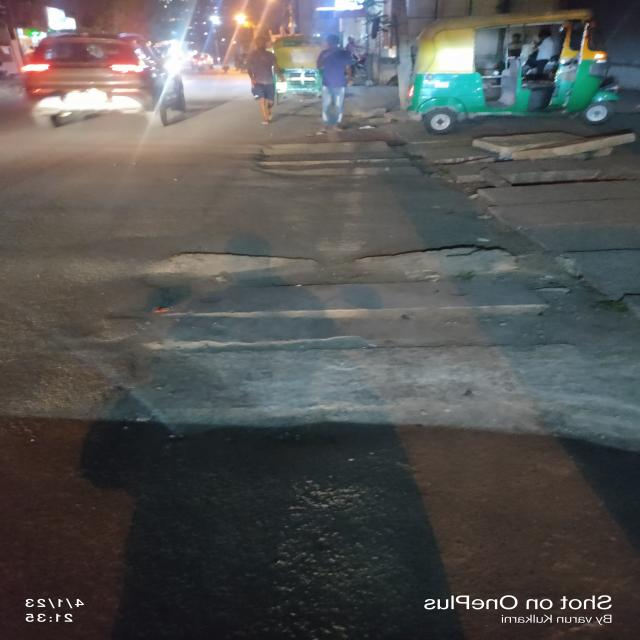manhole: (255, 136, 420, 182)
potholes: (127, 245, 520, 293), (536, 230, 640, 338), (459, 177, 640, 194)
